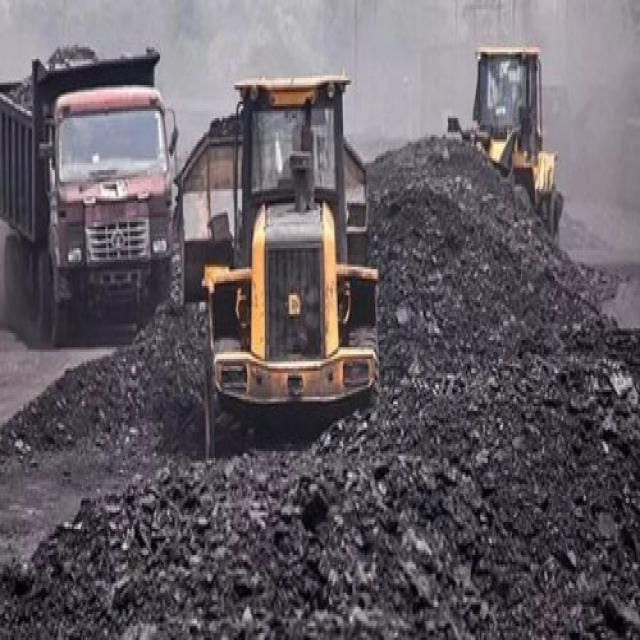buldozerpayloadergrader: (176, 62, 384, 446), (443, 40, 563, 244)
dump_truck: (0, 29, 175, 338)
